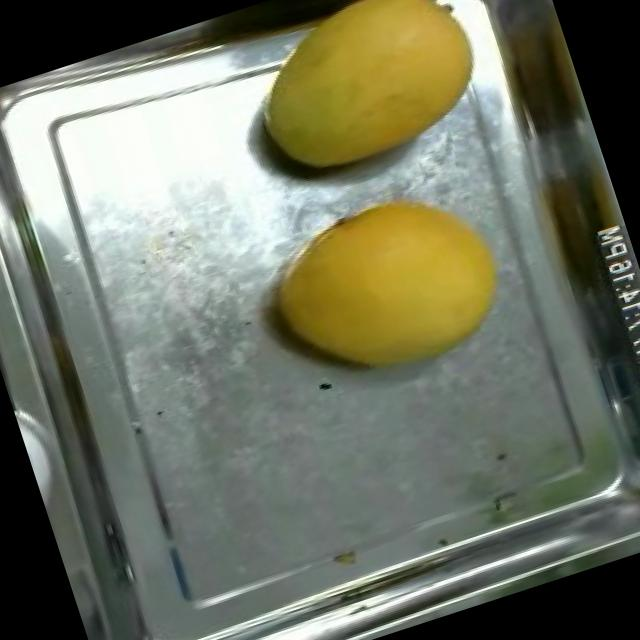fruit: (235, 158, 536, 418), (219, 0, 508, 205)
